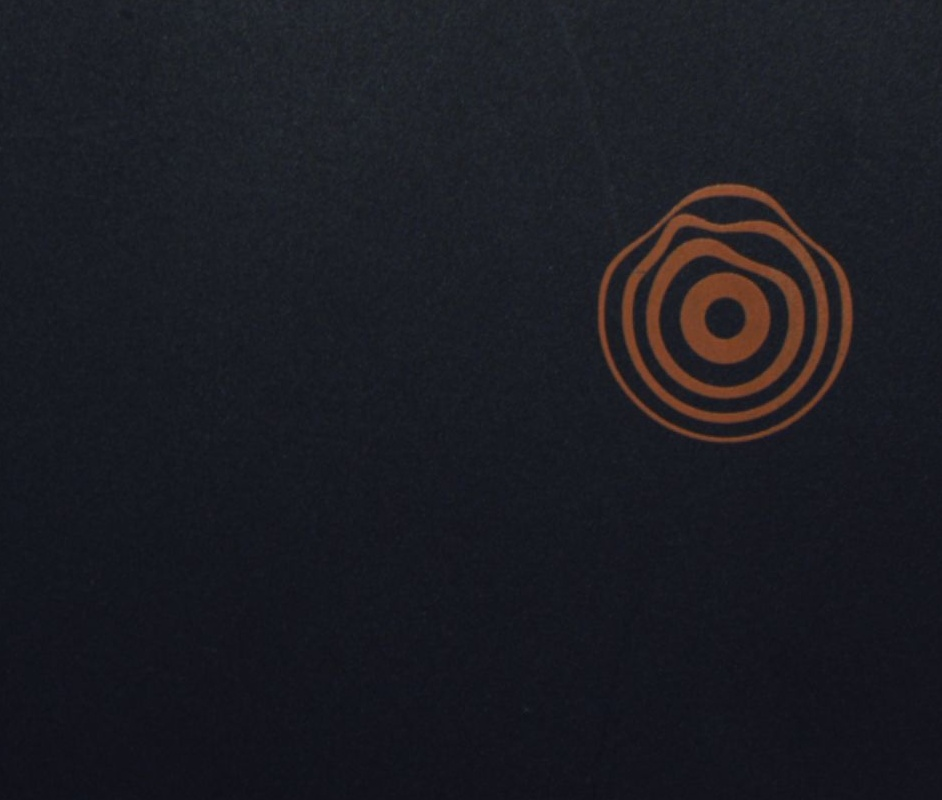BU_HG680GY: (600, 184, 853, 447)
